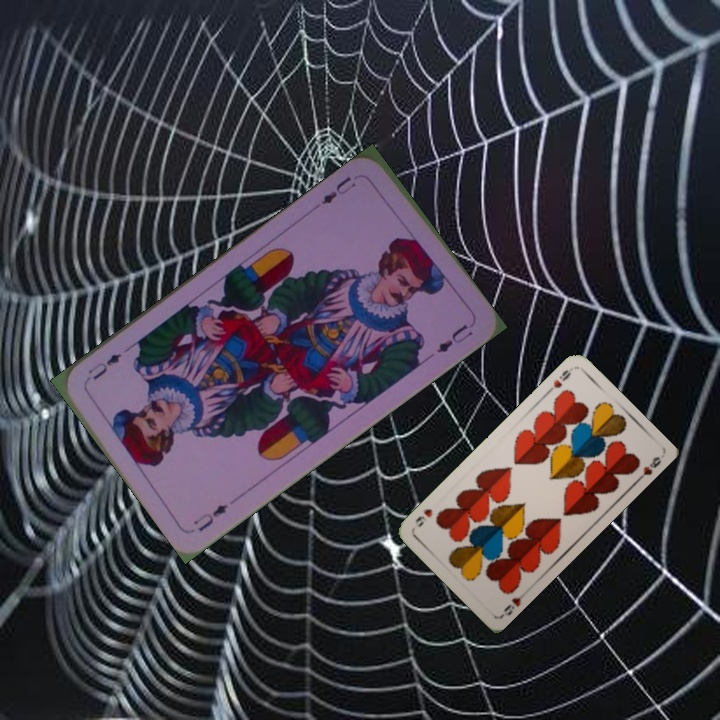EU: (317, 172, 359, 208), (188, 499, 231, 534)
H9: (542, 365, 574, 397), (500, 593, 524, 618)
